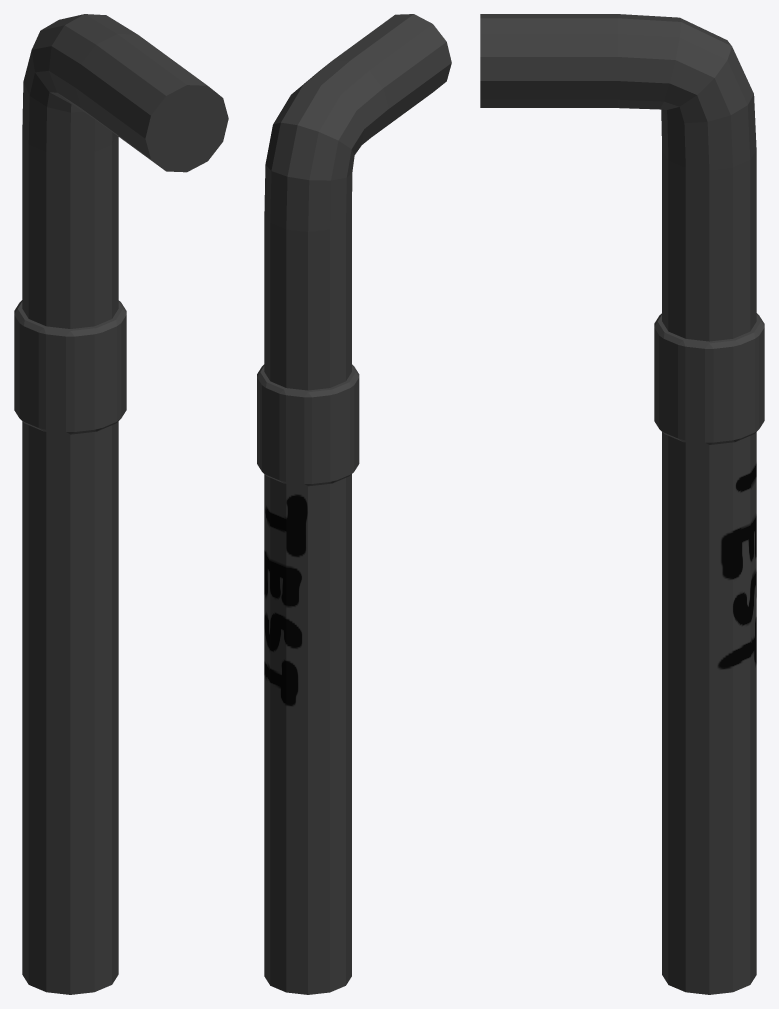
File: Pipe.fbx
3 views of the same model, side by side, from view 1: azimuth 30°, elevation 25°; view 2: azimuth 150°, elevation 25°; view 3: azimuth 270°, elevation 25° (orthographic). The views are drawn at different scales.
Parts seen in each view (by area): view 1: Cylinder; view 2: Cylinder; view 3: Cylinder.
Part boxes in pixels (box(x1,y1,x2,y2)): Cylinder: box(14, 14, 228, 994); Cylinder: box(257, 14, 451, 994); Cylinder: box(480, 14, 764, 994).
Size of the model in its own units: 20.32 by 194 by 52.31.
